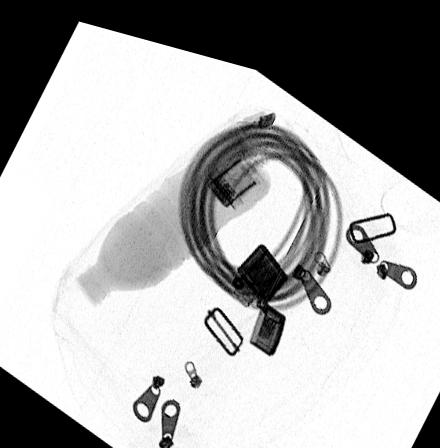Lighter: (231, 228, 289, 343)
